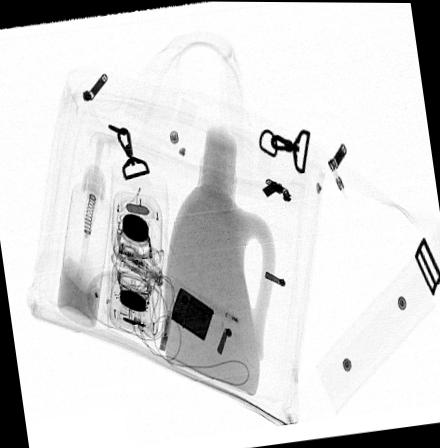Lighter: (171, 287, 215, 342)
